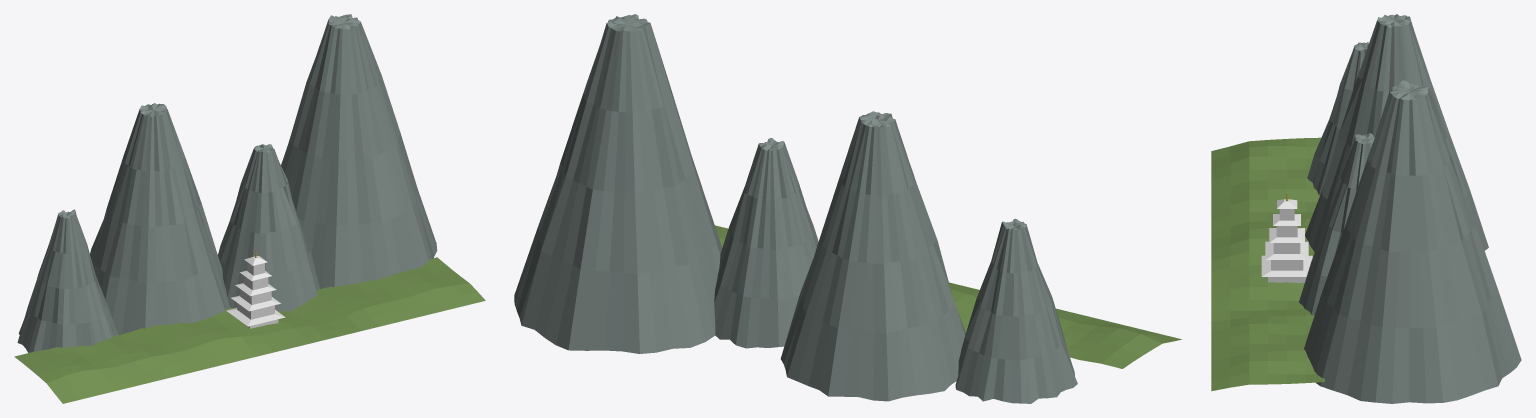
The model's file is china_bg_far.fbx.
3 renders of one model, left to right at view 1: azimuth 30°, elevation 25°; view 2: azimuth 150°, elevation 25°; view 3: azimuth 270°, elevation 25°, orthographic. The views are drawn at different scales.
Visible parts, largest first — view 1: china_bg_far; view 2: china_bg_far; view 3: china_bg_far.
Part boxes in pixels (x1,y1,x2,y2): china_bg_far: (14, 14, 485, 403); china_bg_far: (514, 14, 1182, 403); china_bg_far: (1211, 14, 1521, 403).
Bounding box in the file's own units: 63.14 × 31.72 × 32.77.
